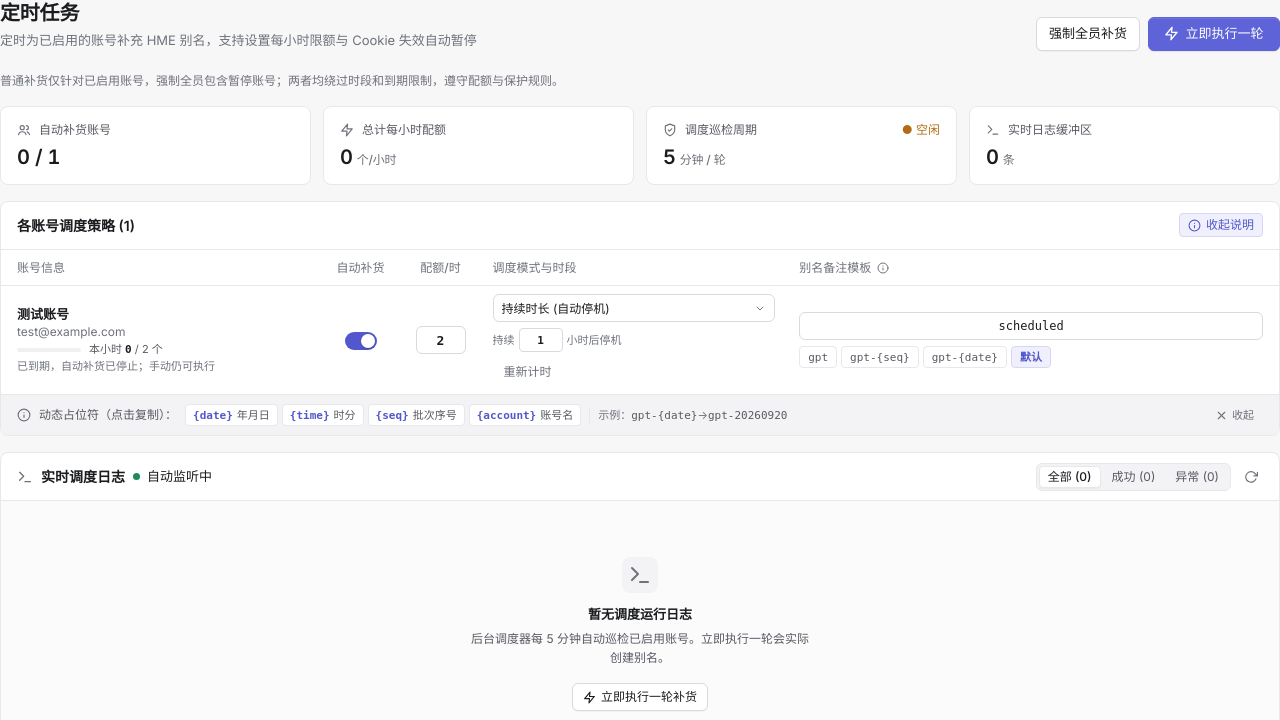
Test case: 到期任务可真正暂停，重新启用会重置开始时间
Expected: the text "已到期，自动补货已停止；手动仍可执行" is shown, x1=17 y1=359 x2=215 y2=373
Click the checkbox at (360, 341), box x1=344 y1=332 x2=376 y2=350
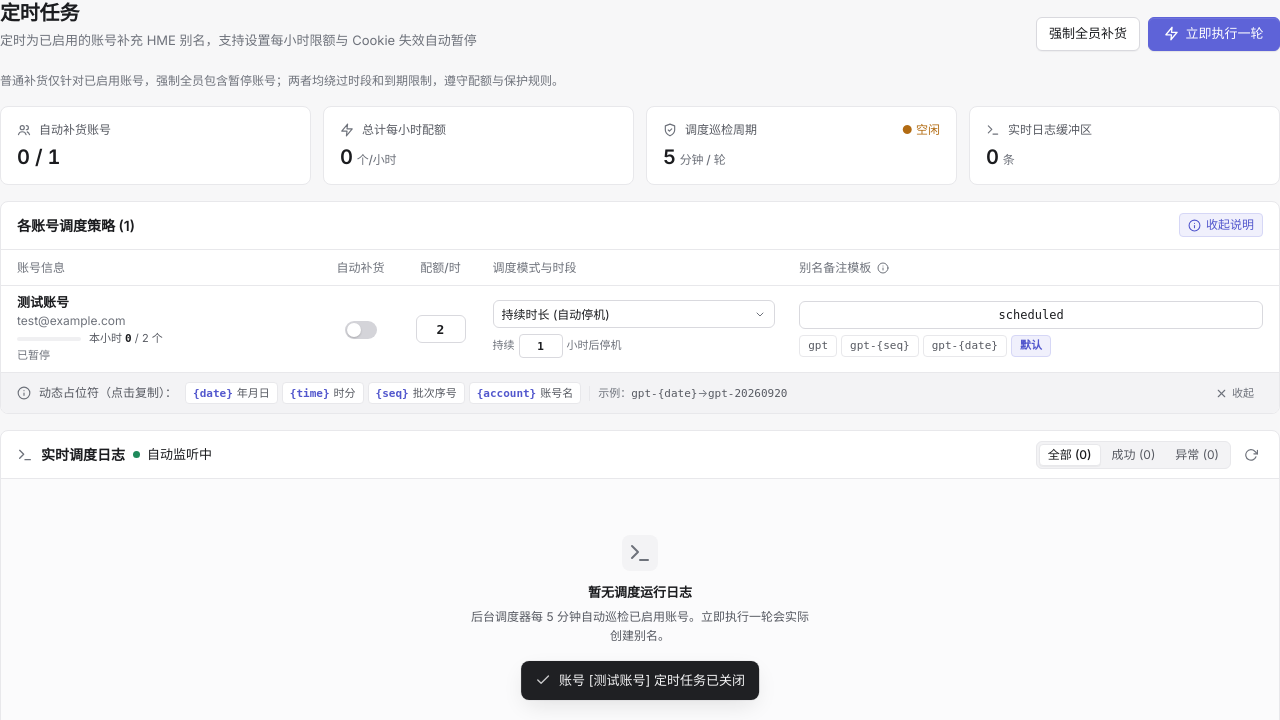
Now the checkbox is not checked
Now the text "已暂停" is shown, box x1=17 y1=348 x2=50 y2=362
Now the button "重新计时" is gone
Click the checkbox at (360, 330), box x1=344 y1=321 x2=376 y2=339
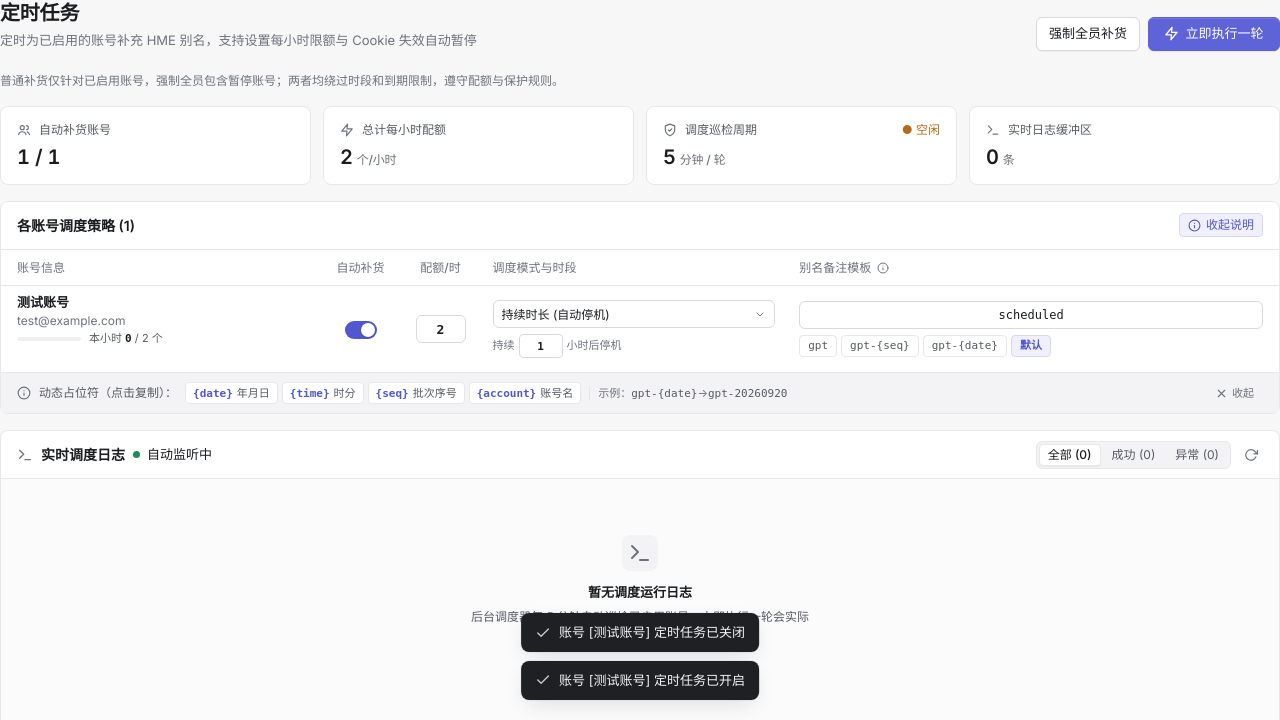
Now the text with class "stat-value" reads "1 / 1", box x1=17 y1=145 x2=60 y2=169
